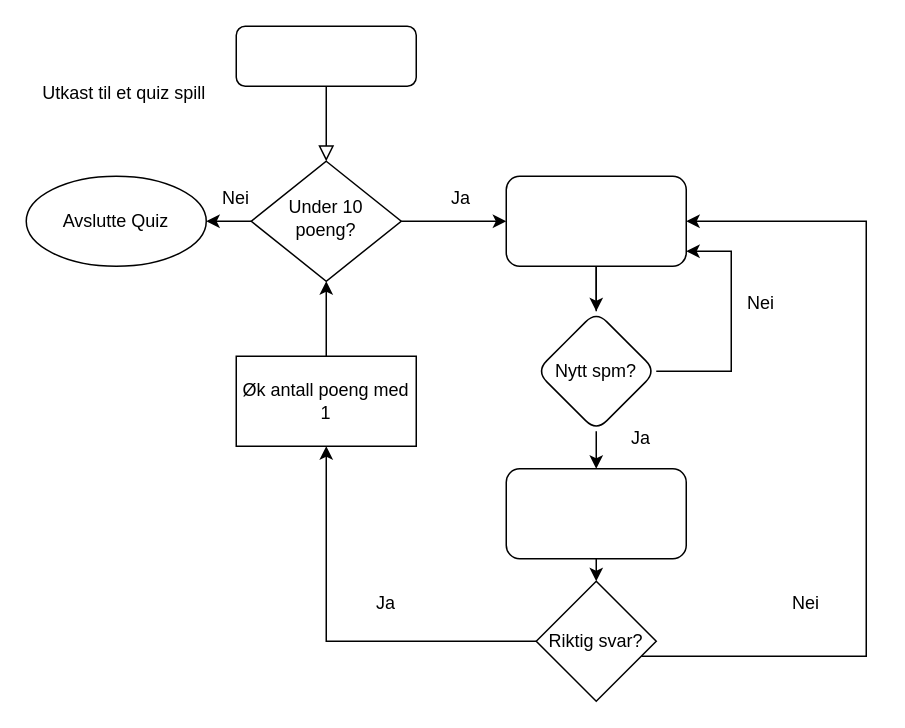
Some shapes in this 905 by 728 pixel diagram are drawn without their labels. The shapes that lost their labels are listed below. From the top down, each one's centre as x and y in pixels, then its label:
At [325,55]: "Quiz start".
At [595,220]: "Få et tilfeldig spørsmål".
At [595,513]: "Still spørsmålet".
